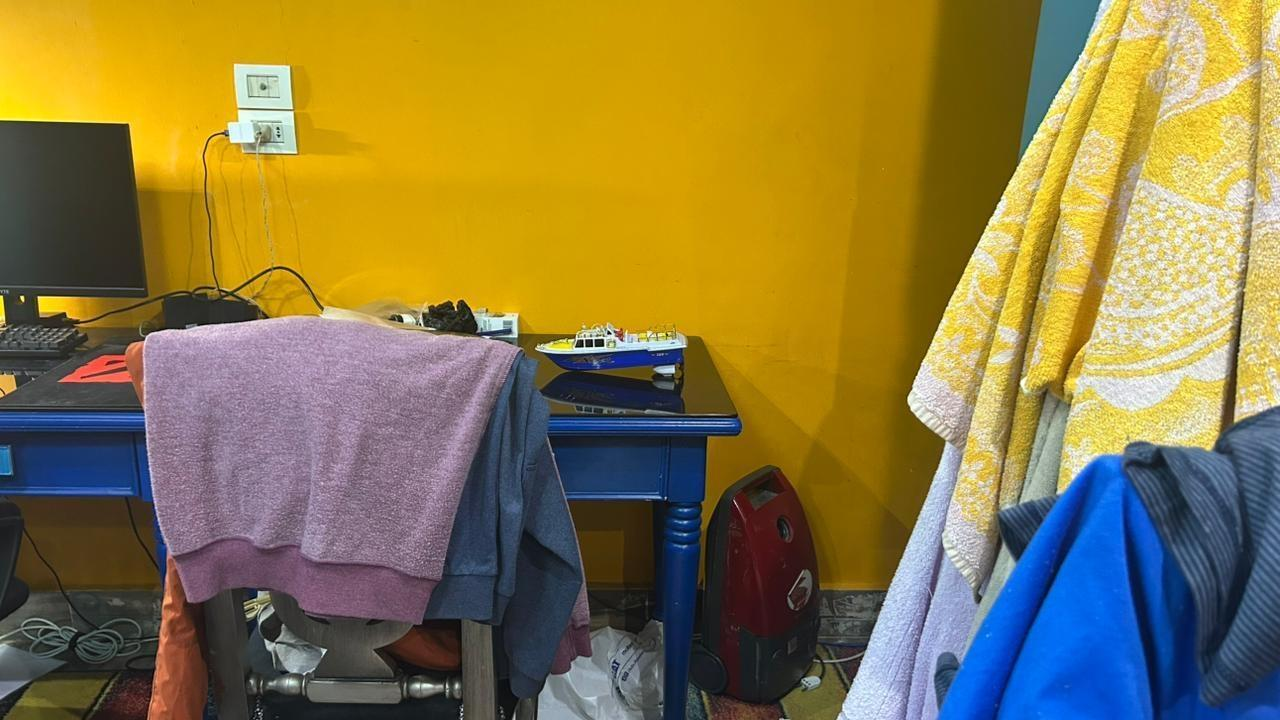Boat: (534, 318, 691, 392)
